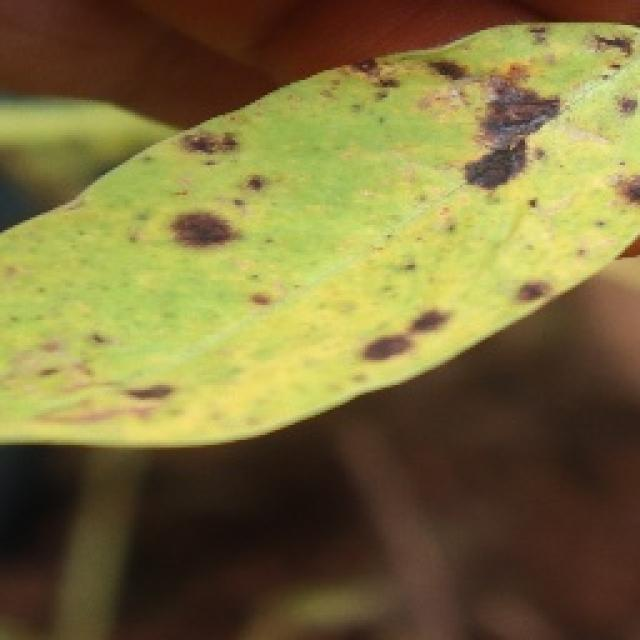Yellowish: (55, 0, 640, 405)
